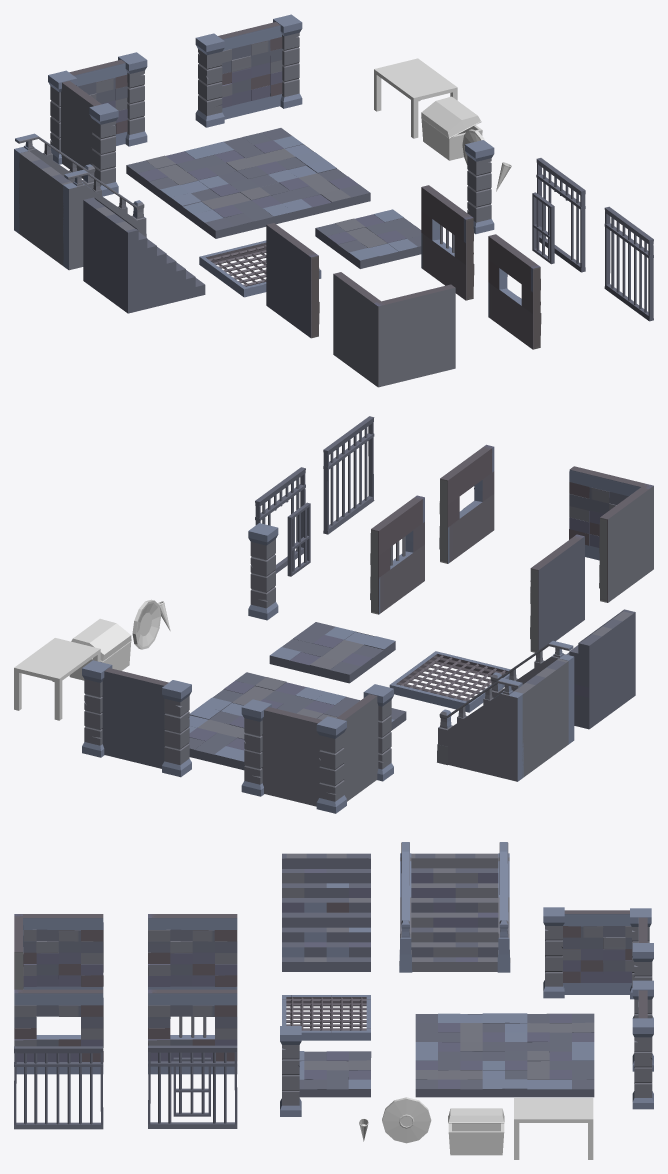
File: DonjonModularKit.fbx
The picture shows the model from 3 angles, top to bottom: view 1: azimuth 30°, elevation 25°; view 2: azimuth 150°, elevation 25°; view 3: azimuth 270°, elevation 25°; orthographic projection. The views are drawn at different scales.
Parts seen in each view (by area): view 1: Sol1x4, Mur1Coin, Mur1Coin.001, MurPilier, Stair_Full.001, Stair_Simple, Mur1, Mur1.002, Mur1.001, Sol1, JailWall.001, Cube.002 (+6 smaller); view 2: Mur1Coin.001, Stair_Full.001, MurPilier, Mur1Coin, Sol1x4, Stair_Simple, Mur1, Mur1.002, Mur1.001, Sol1, Sol2, JailWall.001 (+7 smaller); view 3: Sol1x4, Stair_Full.001, Stair_Simple, Mur1Coin.001, Mur1, Mur1Coin, Mur1.002, Mur1.001, JailWall.001, Sol2, Sol1, JainWallOpen (+7 smaller).
Part boxes in pixels (x1,y1,x2,y2): Sol1x4: (126,128,370,238); Mur1Coin: (333,272,455,387); Mur1Coin.001: (48,52,147,196); MurPilier: (195,14,302,127); Stair_Full.001: (14,133,146,270); Stair_Simple: (83,197,205,313); Mur1: (266,223,319,338); Mur1.002: (421,185,474,300); Mur1.001: (488,234,541,349); Sol1: (315,209,421,268); JailWall.001: (604,206,653,321); Cube.002: (374,58,457,138); Mur1Coin.001: (241,684,393,813); Stair_Full.001: (437,640,574,781); MurPilier: (82,660,191,777); Mur1Coin: (569,466,653,602); Sol1x4: (189,672,406,770); Stair_Simple: (566,609,635,729); Mur1: (530,534,584,652); Mur1.002: (370,495,424,614); Mur1.001: (439,444,494,563); Sol1: (269,622,395,683); Sol2: (389,651,510,712); JailWall.001: (323,416,374,534); Sol1x4: (415,1013,594,1097); Stair_Full.001: (399,842,510,972); Stair_Simple: (282,853,370,971); Mur1Coin.001: (543,907,653,1018); Mur1: (148,914,237,989); Mur1Coin: (14,914,103,989); Mur1.002: (148,989,237,1074); Mur1.001: (14,989,103,1074); JailWall.001: (14,1046,103,1129); Sol2: (282,995,370,1040); Sol1: (299,1051,371,1097); JainWallOpen: (148,1045,237,1128).
Bounding box in the file's own units: 1153 × 258 × 1435.
